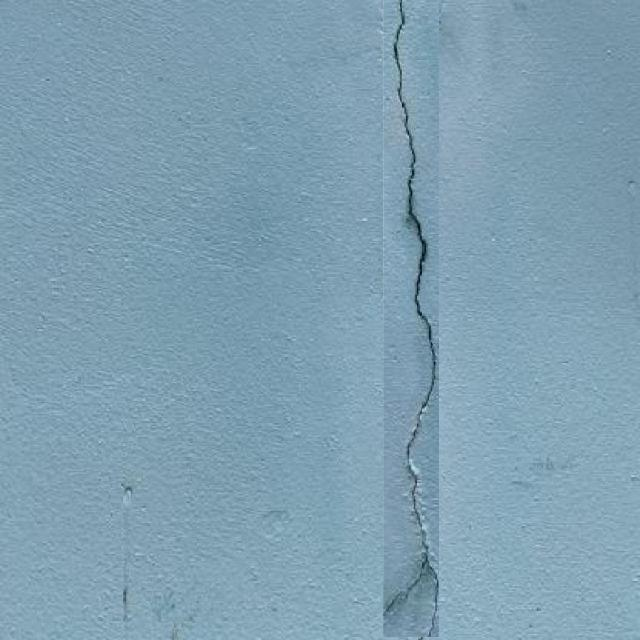Crack: (381, 0, 441, 639)
